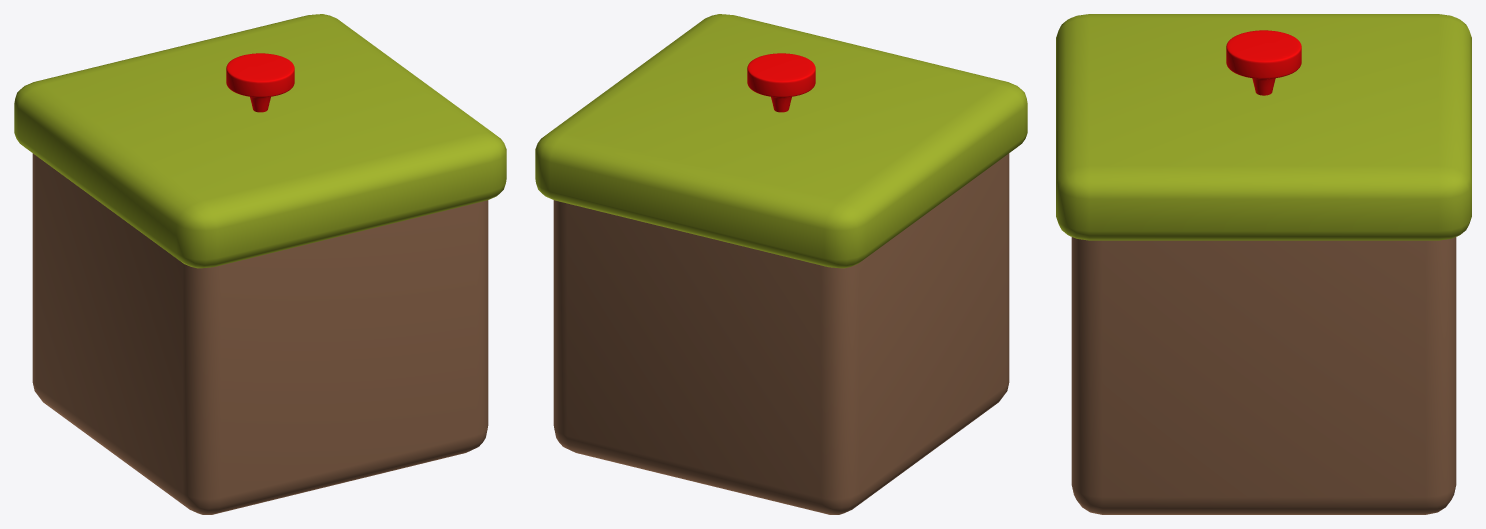
File: BallStand.fbx
The picture shows the model from 3 angles, left to right: view 1: azimuth 30°, elevation 25°; view 2: azimuth 150°, elevation 25°; view 3: azimuth 270°, elevation 25°; orthographic projection. The views are drawn at different scales.
Visible parts, largest first — view 1: Cube.044, Cube.006, Cube.014; view 2: Cube.044, Cube.006, Cube.014; view 3: Cube.044, Cube.006, Cube.014.
Boxes of the visible parts, box(x1,y1,x2,y2) form: Cube.044: box(32, 153, 488, 514); Cube.006: box(14, 14, 506, 268); Cube.014: box(226, 53, 294, 112); Cube.044: box(553, 153, 1009, 514); Cube.006: box(535, 14, 1027, 268); Cube.014: box(747, 53, 815, 112); Cube.044: box(1071, 237, 1456, 514); Cube.006: box(1056, 14, 1471, 240); Cube.014: box(1226, 30, 1301, 95).
Bounding box in the file's own units: 216 × 228 × 216.
